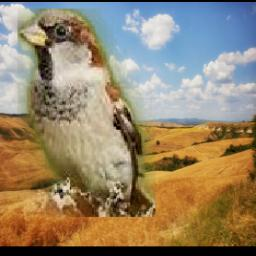Sparrow: (18, 9, 155, 217)
